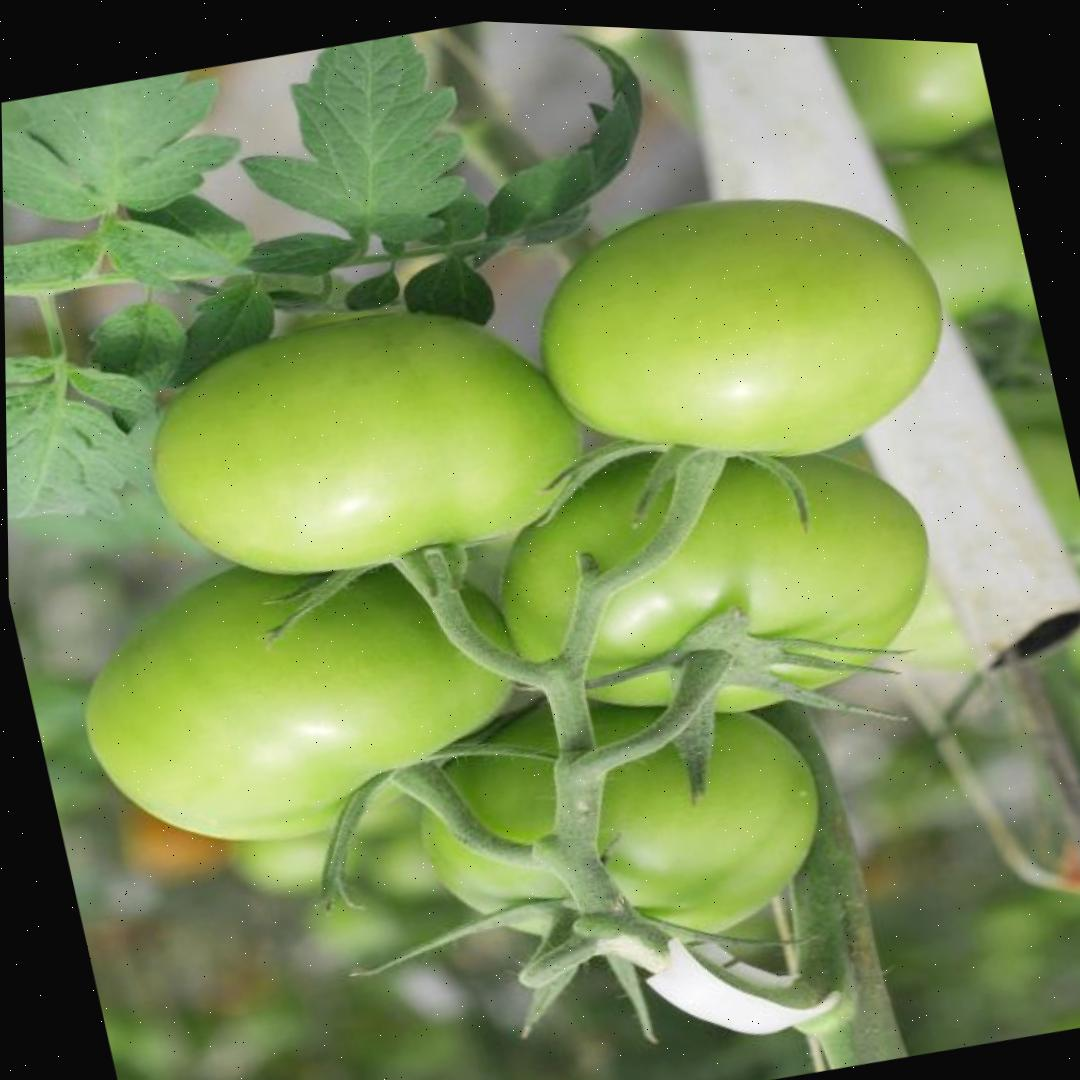mentah: (52, 499, 554, 890), (462, 383, 959, 765), (505, 149, 973, 514), (387, 640, 851, 1004), (126, 268, 606, 613)
